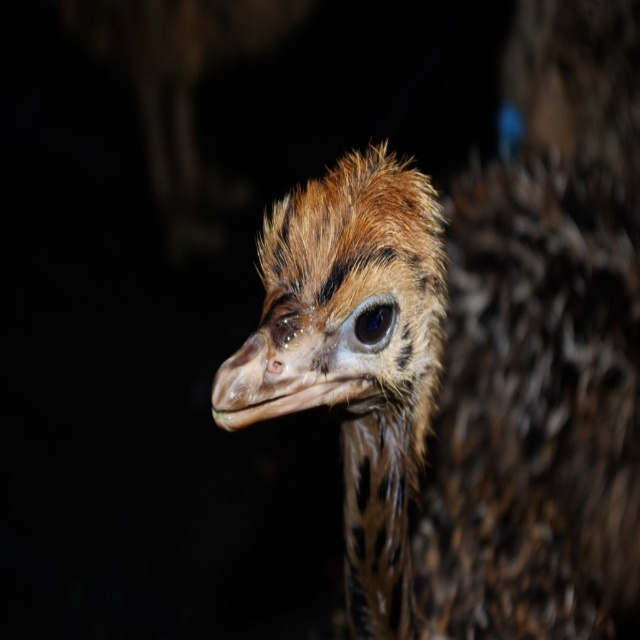Ostrich: (207, 0, 639, 639)
